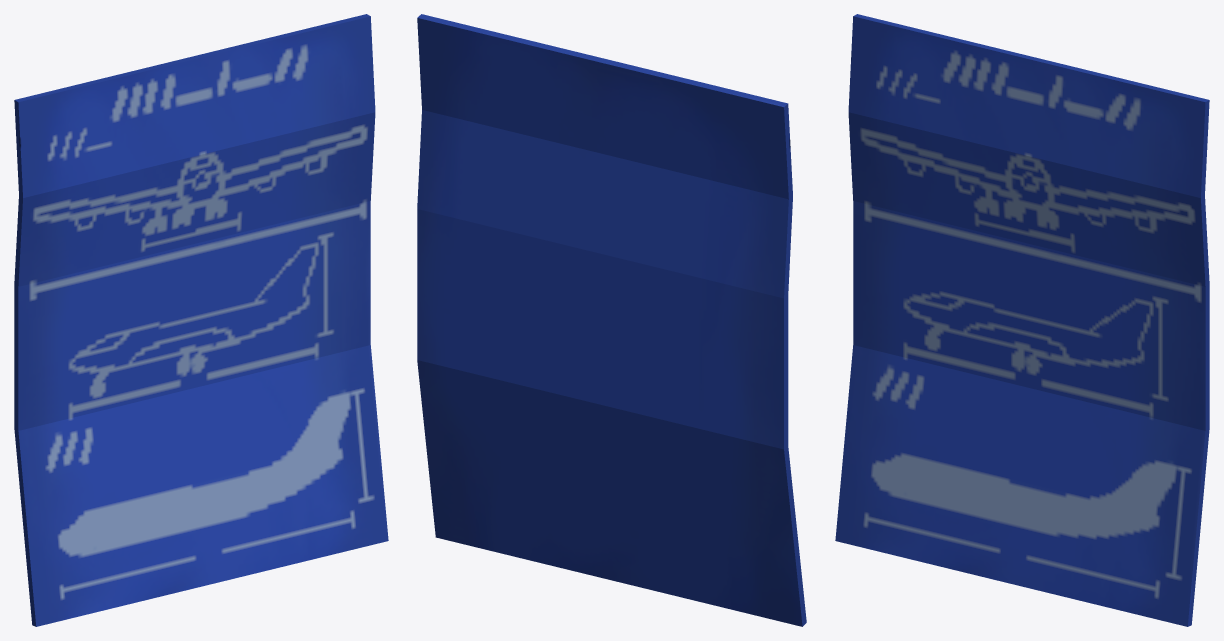
The model's file is blueprint.glb.
3 views of the same model, side by side, from view 1: azimuth 30°, elevation 25°; view 2: azimuth 150°, elevation 25°; view 3: azimuth 330°, elevation 25° (orthographic). The views are drawn at different scales.
Visible parts, largest first — view 1: Плоскость; view 2: Плоскость; view 3: Плоскость.
Boxes of the visible parts, x1,y1,x2,y2 form: Плоскость: (14, 14, 388, 626); Плоскость: (417, 14, 806, 626); Плоскость: (835, 14, 1209, 626).
Bounding box in the file's own units: 0.4033 × 0.5611 × 0.0434.
Materials: 1 (1 with a texture image).
